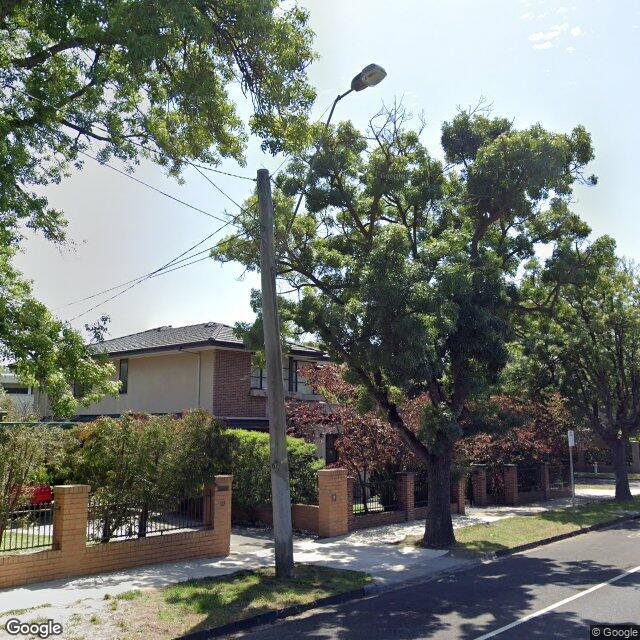streetlight: (270, 62, 388, 278)
timber-pole: (255, 167, 295, 581)
